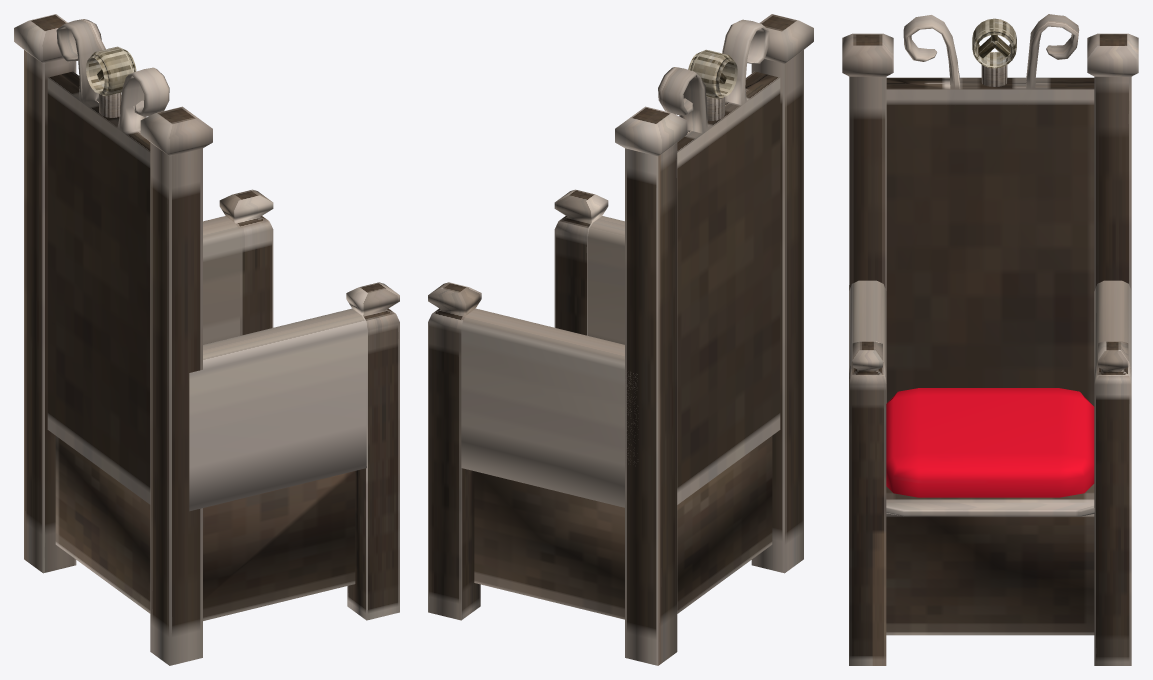
Rendered from mack_Throne.fbx.
The picture shows the model from 3 angles, left to right: view 1: azimuth 30°, elevation 25°; view 2: azimuth 150°, elevation 25°; view 3: azimuth 270°, elevation 25°; orthographic projection. The views are drawn at different scales.
Parts seen in each view (by area): view 1: polySurface2, polySurface1, polySurface6, polySurface10, polySurface3, polySurface4, polySurface12; view 2: polySurface2, polySurface4, polySurface3, polySurface6, polySurface10, polySurface1, polySurface12; view 3: polySurface2, polySurface6, polySurface5, polySurface1, polySurface4, polySurface10, polySurface3, polySurface12, polySurface11.
Part boxes in pixels (x1,y1,x2,y2): polySurface2: (47, 19, 169, 504); polySurface1: (189, 282, 399, 620); polySurface6: (55, 436, 355, 620); polySurface10: (140, 106, 212, 665); polySurface3: (14, 14, 76, 573); polySurface4: (203, 189, 273, 344); polySurface12: (86, 46, 136, 96); polySurface2: (658, 19, 780, 504); polySurface4: (428, 282, 637, 620); polySurface3: (615, 106, 687, 665); polySurface6: (474, 436, 772, 619); polySurface10: (751, 14, 813, 573); polySurface1: (554, 189, 624, 344); polySurface12: (688, 49, 737, 99); polySurface2: (886, 14, 1094, 406); polySurface6: (886, 484, 1094, 635); polySurface5: (886, 388, 1094, 497); polySurface1: (849, 280, 886, 665); polySurface4: (1094, 280, 1131, 665); polySurface10: (842, 33, 893, 403); polySurface3: (1087, 33, 1138, 290); polySurface12: (972, 18, 1016, 68); polySurface11: (981, 65, 1007, 86).
Size of the model in its own units: 12.26 by 27.04 by 13.28.
